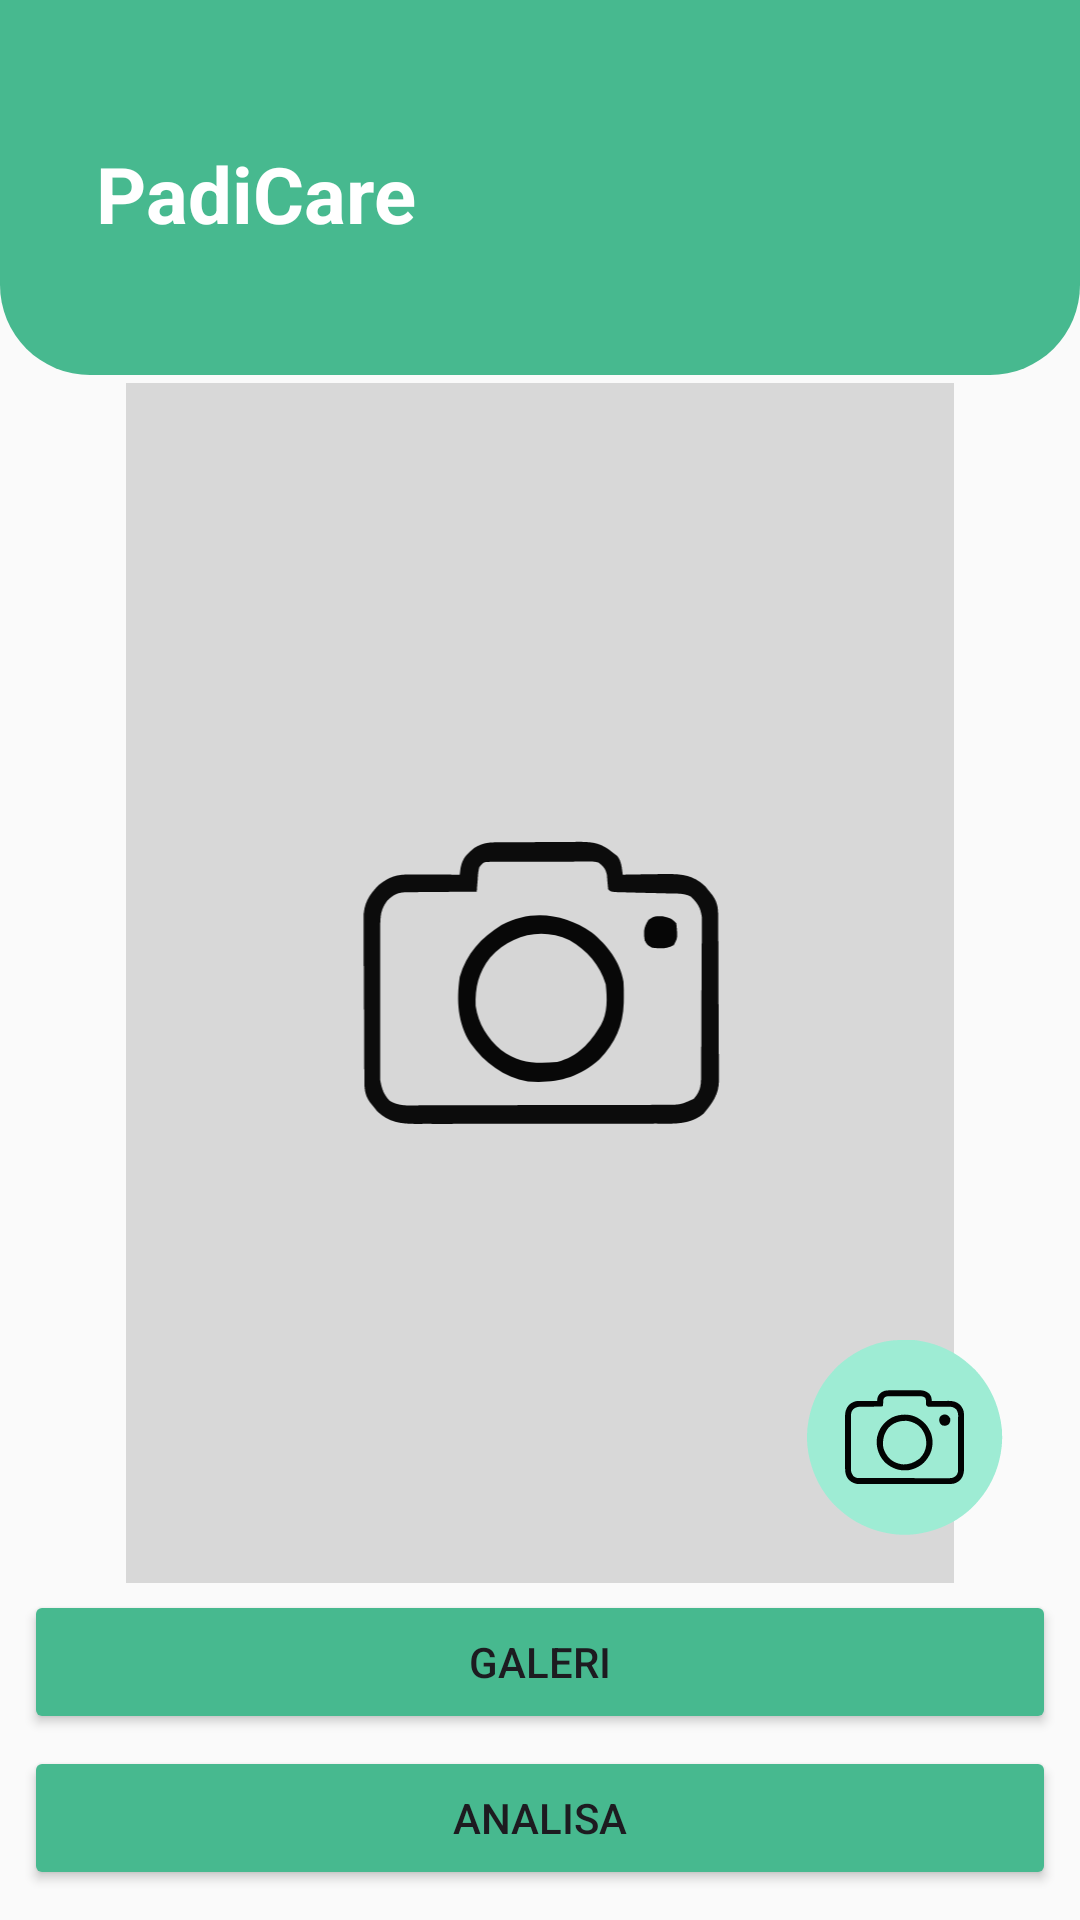

Named icons in this screenshot (1080px×1920px) and their centers, (x,y):
camerawithcircle: (907,1437)
